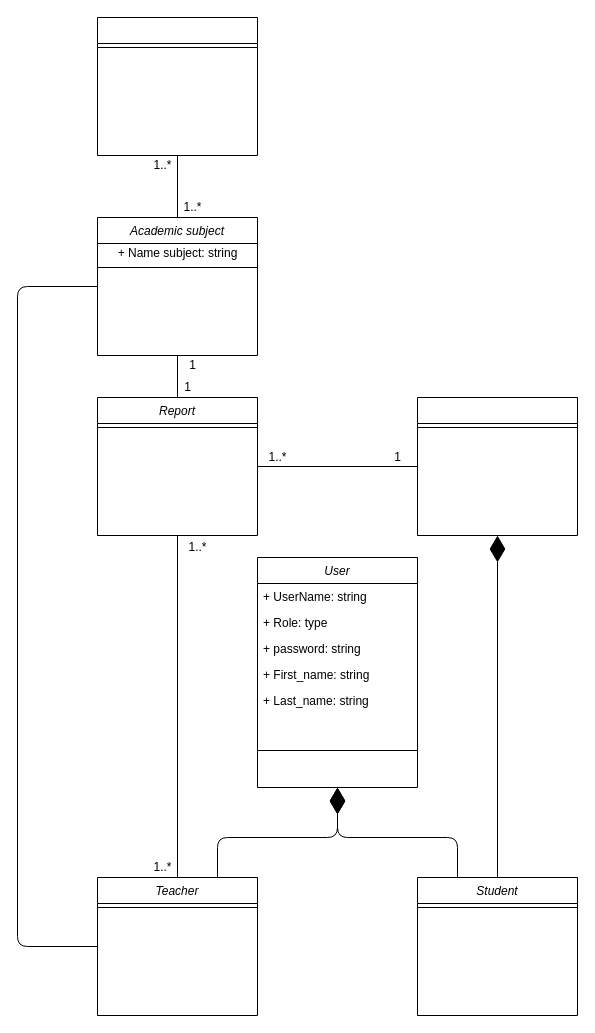
Some shapes in this 595 by 1033 pixel diagram are drawn without their labels. The centre of each missing label's shape, as x and y in pixels:
"Academic plan" goes at pixel 177 86.
"Group" goes at pixel 497 466.
